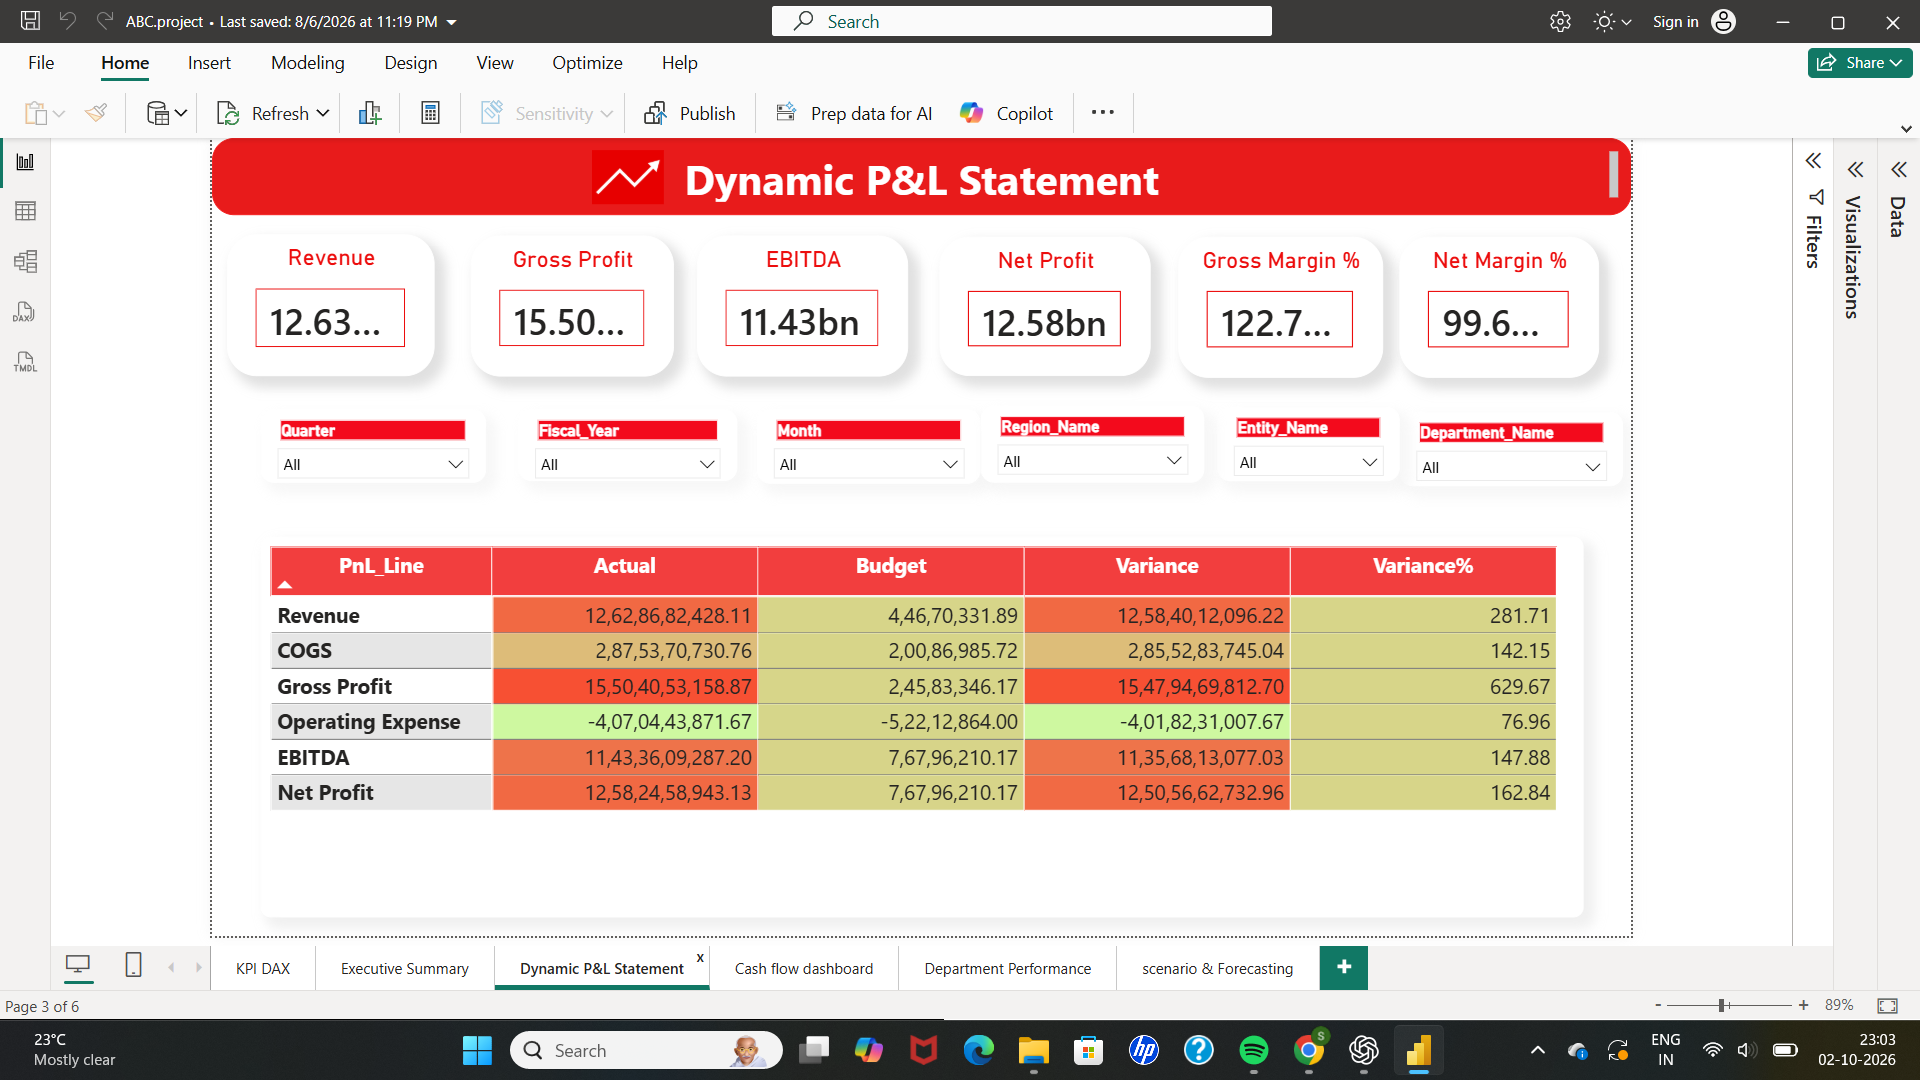

Layout of this report page (visuals, bound fields, positions):
{"tool":"powerbi","page":{"name":"Dynamic P&L Statement","canvas":[1280,720],"ordinal":2},"visuals":[{"type":"textbox","box":[0,0,1280.3,69.7],"z":0},{"type":"cardVisual","title":"Revenue","fields":{"Data":["KPI DAX.Revenue"]},"box":[13.7,86.4,187.1,128.4],"z":1000},{"type":"cardVisual","title":"Gross Profit","fields":{"Data":["KPI DAX.Gross Profit"]},"box":[233.3,87.8,183.4,127.2],"z":2000},{"type":"cardVisual","title":"EBITDA","fields":{"Data":["KPI DAX.EBITDA"]},"box":[437.7,87.8,190.8,127.2],"z":3000},{"type":"cardVisual","title":"Net Profit","fields":{"Data":["KPI DAX.Net Profit"]},"box":[655.9,89.2,190.8,126],"z":4000},{"type":"cardVisual","title":"Gross Margin %","fields":{"Data":["KPI DAX.Gross Margin%"]},"box":[871.4,89.2,184.6,127.2],"z":5000},{"type":"cardVisual","title":"Net Margin %","fields":{"Data":["KPI DAX.Net Margin %"]},"box":[1070.3,89.2,179.8,127.2],"z":6000},{"type":"slicer","fields":{"Values":["Dim_Date.Fiscal_Year"]},"box":[275.8,244.3,197.6,64.5],"z":7000},{"type":"slicer","fields":{"Values":["Dim_Date.Quarter"]},"box":[43.9,244.3,203,66],"z":8000},{"type":"slicer","fields":{"Values":["Dim_Date.Date.Variation.Date Hierarchy.Month"]},"box":[491.3,244.3,201.8,67.3],"z":9000},{"type":"slicer","fields":{"Values":["Dim_Department.Department_Name"]},"box":[1070.3,247,201.8,67.3],"z":10000},{"type":"slicer","fields":{"Values":["Dim_Entity.Entity_Name"]},"box":[905.7,242.9,165.1,67.3],"z":11000},{"type":"slicer","fields":{"Values":["Dim_Region.Region_Name"]},"box":[693,241.5,201.8,69.7],"z":12000},{"type":"pivotTable","fields":{"Values":["KPI DAX.P&L Value"],"Columns":["Dim_ValueType.Value"],"Rows":["Dim_PnLLine.PnL_Line"]},"box":[43.9,359.5,1192.5,343.1],"z":13000},{"type":"image","box":[342.4,4.9,65.1,61.5],"z":14000}]}

Visuals, with their boxes on the page's 1280x720 design canvas (x1, y1, x2, y2). These are canvas units, not pixel positions in the 1920x1080 screenshot, which may show the page scaled, cropped or inside an application window:
textbox: bbox(0, 0, 1280, 70)
"Revenue" cardVisual: bbox(14, 86, 201, 215)
"Gross Profit" cardVisual: bbox(233, 88, 417, 215)
"EBITDA" cardVisual: bbox(438, 88, 628, 215)
"Net Profit" cardVisual: bbox(656, 89, 847, 215)
"Gross Margin %" cardVisual: bbox(871, 89, 1056, 216)
"Net Margin %" cardVisual: bbox(1070, 89, 1250, 216)
slicer - Dim_Date.Fiscal_Year: bbox(276, 244, 473, 309)
slicer - Dim_Date.Quarter: bbox(44, 244, 247, 310)
slicer - Dim_Date.Date.Variation.Date Hierarchy.Month: bbox(491, 244, 693, 312)
slicer - Dim_Department.Department_Name: bbox(1070, 247, 1272, 314)
slicer - Dim_Entity.Entity_Name: bbox(906, 243, 1071, 310)
slicer - Dim_Region.Region_Name: bbox(693, 242, 895, 311)
pivotTable - KPI DAX.P&L Value x Dim_ValueType.Value: bbox(44, 360, 1236, 703)
image: bbox(342, 5, 408, 66)
